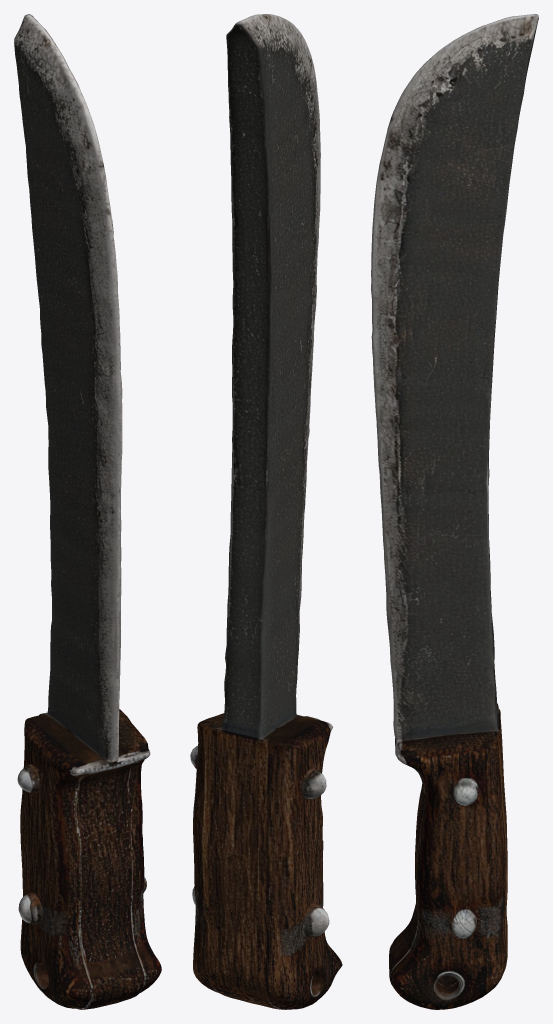
The model's file is melee_machete.glb.
3 views of the same model, side by side, from view 1: azimuth 30°, elevation 25°; view 2: azimuth 150°, elevation 25°; view 3: azimuth 270°, elevation 25° (orthographic). The views are drawn at different scales.
Parts seen in each view (by area): view 1: melee_machete; view 2: melee_machete; view 3: melee_machete.
Part boxes in pixels (x1,y1,x2,y2): melee_machete: (14,14,161,1009); melee_machete: (190,14,342,1009); melee_machete: (371,14,538,1009).
Size of the model in its own units: 0.082 by 0.6 by 0.0939.
Materials: 1 (1 with a texture image).
